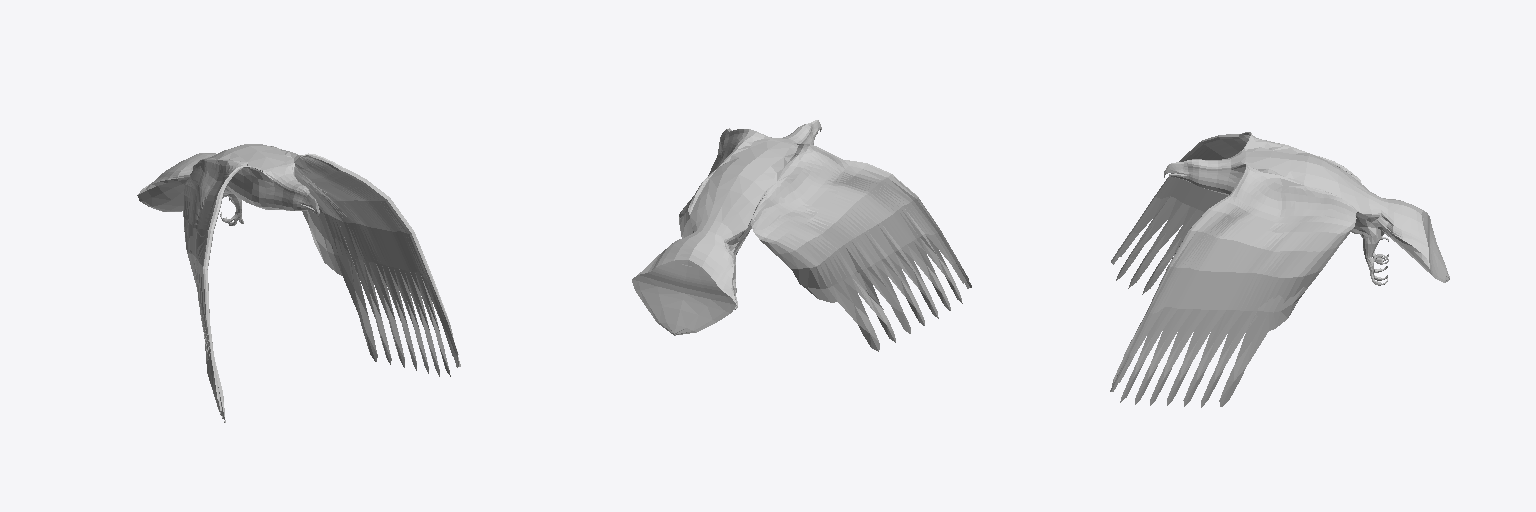
File: Eagle-original_000078.obj
3 views of the same model, side by side, from view 1: azimuth 30°, elevation 25°; view 2: azimuth 150°, elevation 25°; view 3: azimuth 270°, elevation 25° (orthographic).
Visible parts, largest first — view 1: Flugel_Plane.003; view 2: Flugel_Plane.003; view 3: Flugel_Plane.003.
Part boxes in pixels (bbox=[...]): Flugel_Plane.003: bbox=[137, 144, 460, 422]; Flugel_Plane.003: bbox=[632, 120, 971, 351]; Flugel_Plane.003: bbox=[1110, 132, 1449, 407].
Bounding box in the file's own units: 5.37 × 4.61 × 6.6.